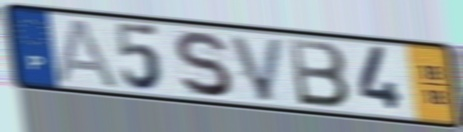4: (357, 42, 410, 117)
5: (114, 22, 171, 95)
A: (54, 17, 122, 91)
B: (286, 36, 353, 111)
S: (171, 28, 235, 99)
V: (226, 32, 288, 104)
